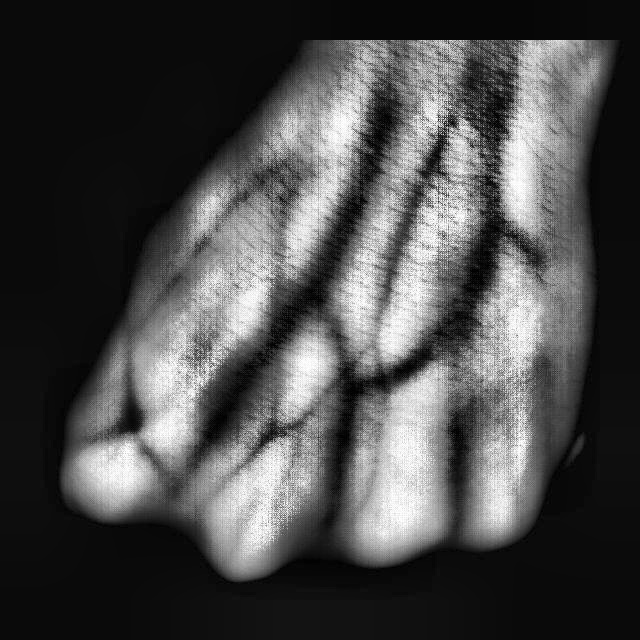Vein: (245, 160, 385, 374)
